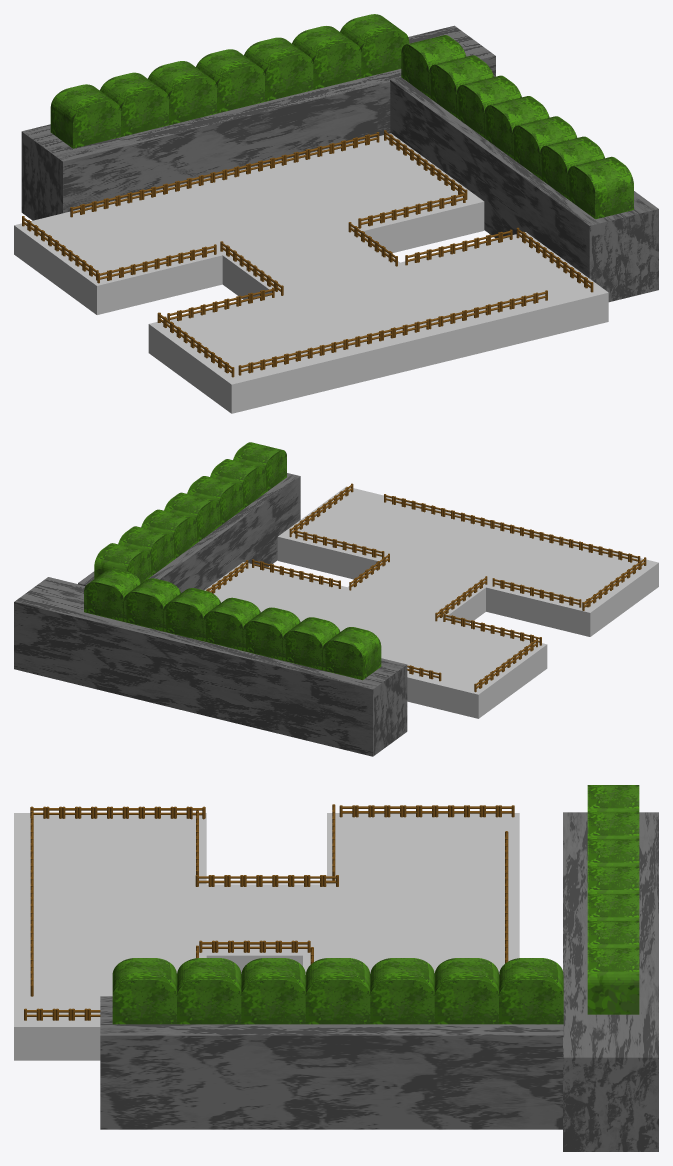
Rendered from steag03.fbx.
3 views of the same model, one above another, from view 1: azimuth 30°, elevation 25°; view 2: azimuth 150°, elevation 25°; view 3: azimuth 270°, elevation 25° (orthographic). The views are drawn at different scales.
Parts seen in each view (by area): view 1: 立方体.002, 立方体, 葉, 立方体.001, 葉.001, 円柱.008; view 2: 立方体.002, 立方体, 葉, 葉.001, 円柱.008, 立方体.001; view 3: 立方体.002, 立方体.001, 葉.001, 立方体, 葉, 円柱.008.
Boxes of the visible parts, box(x1,y1,x2,y2) form: 立方体.002: box(14, 133, 608, 413); 立方体: box(21, 25, 495, 220); 葉: box(50, 14, 409, 148); 立方体.001: box(390, 77, 658, 302); 葉.001: box(401, 35, 633, 219); 円柱.008: box(22, 130, 593, 377); 立方体.002: box(204, 486, 658, 718); 立方体: box(14, 577, 407, 756); 葉: box(84, 568, 381, 680); 葉.001: box(94, 442, 286, 583); 円柱.008: box(206, 483, 646, 692); 立方体.001: box(78, 473, 300, 592); 立方体.002: box(14, 813, 519, 1060); 立方体.001: box(100, 996, 563, 1129); 葉.001: box(112, 958, 563, 1024); 立方体: box(563, 812, 658, 1151); 葉: box(587, 785, 639, 1014); 円柱.008: box(24, 804, 514, 1020).
Size of the model in its own units: 7168 by 1656 by 6886.
